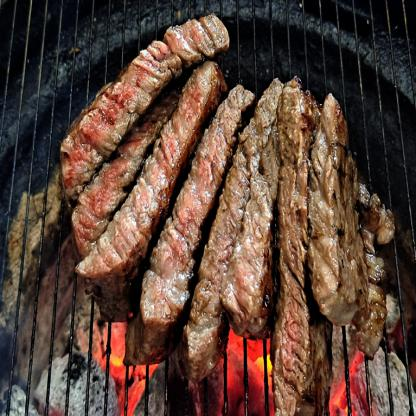Carne: (58, 11, 232, 209), (85, 65, 221, 317), (147, 89, 254, 335), (197, 86, 289, 372), (242, 85, 316, 334), (290, 102, 348, 415)
